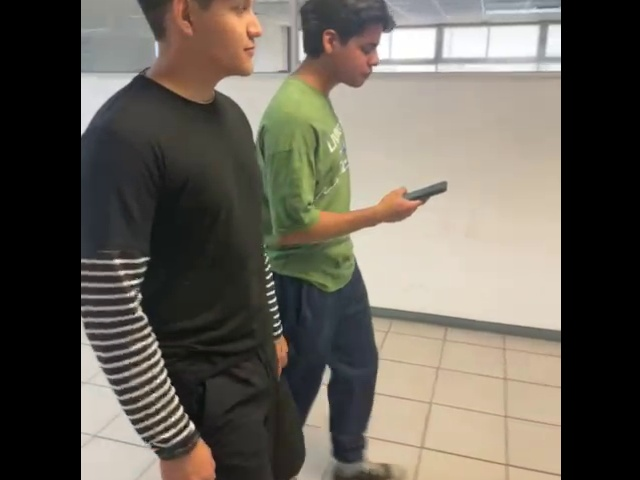mixto2: (403, 178, 449, 203)
